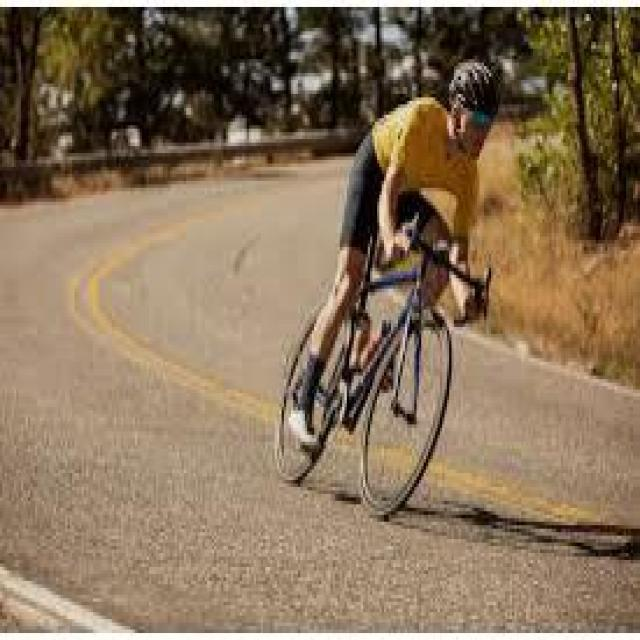bicycle: (278, 227, 476, 519)
